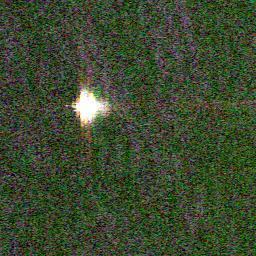Ship: (69, 92, 104, 130)
